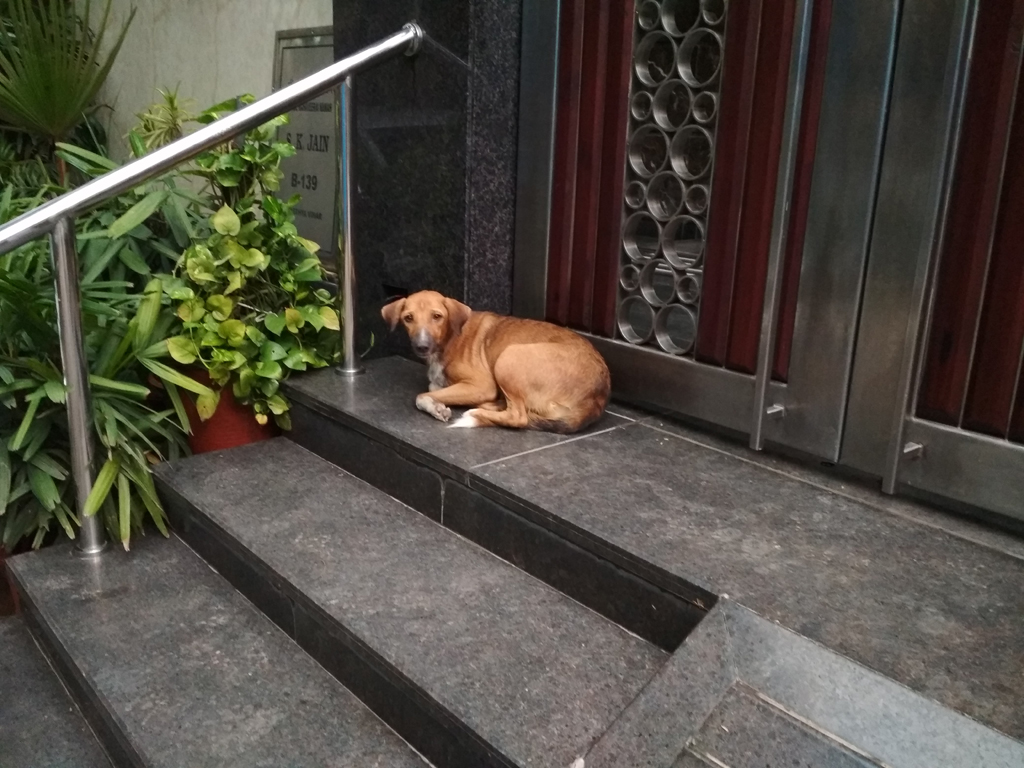dog: (380, 290, 611, 436)
